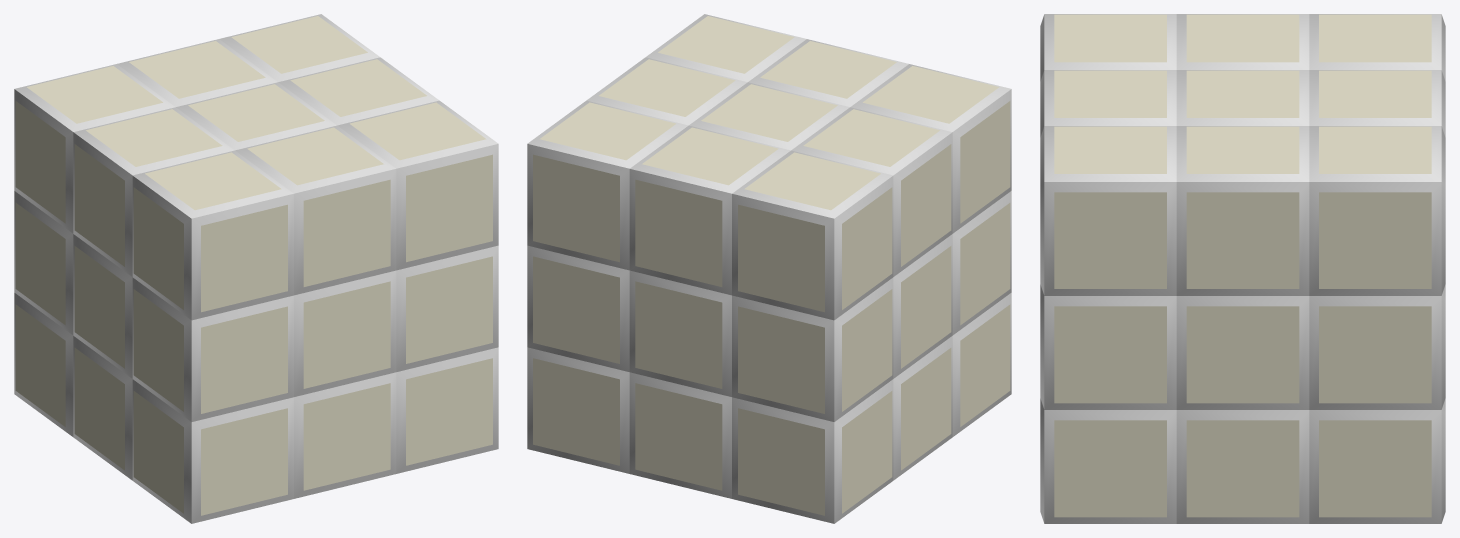
The model's file is good.glb.
3 renders of one model, left to right at view 1: azimuth 30°, elevation 25°; view 2: azimuth 150°, elevation 25°; view 3: azimuth 270°, elevation 25°, orthographic. The views are drawn at different scales.
Parts seen in each view (by area): view 1: plaquette, coulis; view 2: plaquette, coulis; view 3: plaquette, coulis.
Boxes of the visible parts, x1,y1,x2,y2 form: plaquette: (15, 16, 492, 515); coulis: (14, 14, 498, 523); plaquette: (533, 16, 1010, 515); coulis: (527, 14, 1011, 523); plaquette: (1054, 14, 1431, 517); coulis: (1040, 14, 1445, 523).
Bounding box in the file's own units: 20.42 × 19.4 × 20.42.
